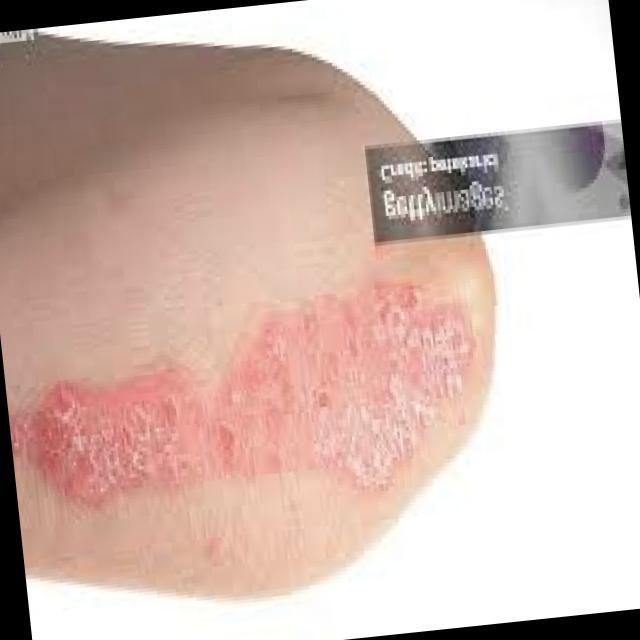Eczema: (0, 274, 474, 500)
